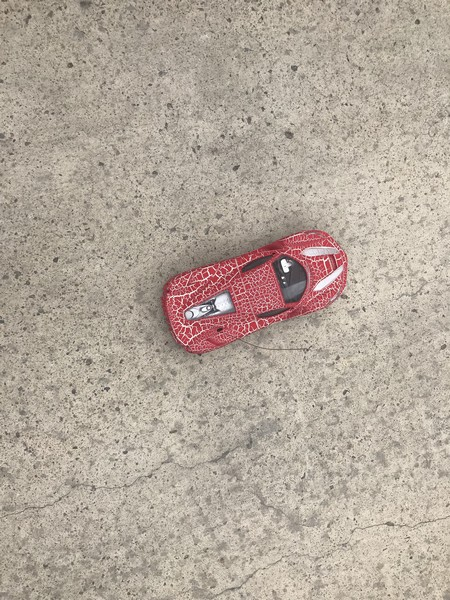RC: (161, 228, 350, 355)
